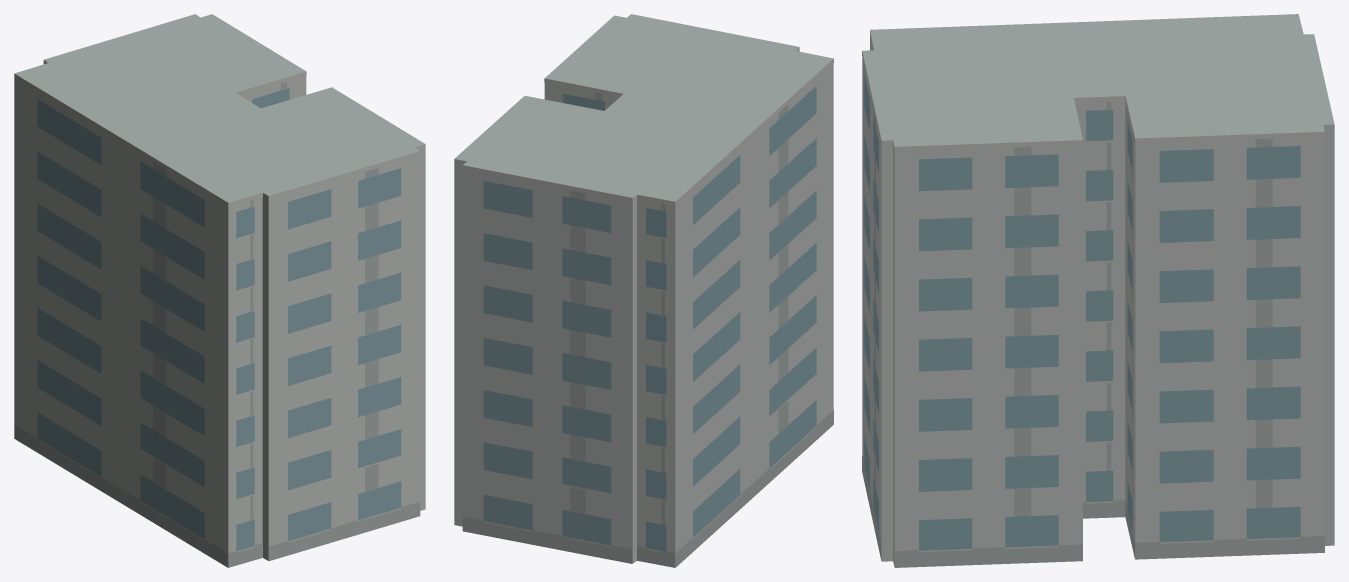
File: survey-upis-32667020.glb
The picture shows the model from 3 angles, left to right: view 1: azimuth 30°, elevation 25°; view 2: azimuth 150°, elevation 25°; view 3: azimuth 270°, elevation 25°; orthographic projection. The views are drawn at different scales.
Parts seen in each view (by area): view 1: survey-upis-32667020.tmp; view 2: survey-upis-32667020.tmp; view 3: survey-upis-32667020.tmp.
Part boxes in pixels (x1,y1,x2,y2): survey-upis-32667020.tmp: (14,14,425,567); survey-upis-32667020.tmp: (454,14,833,567); survey-upis-32667020.tmp: (862,14,1334,567).
Bounding box in the file's own units: 13.92 × 20.55 × 20.91.
